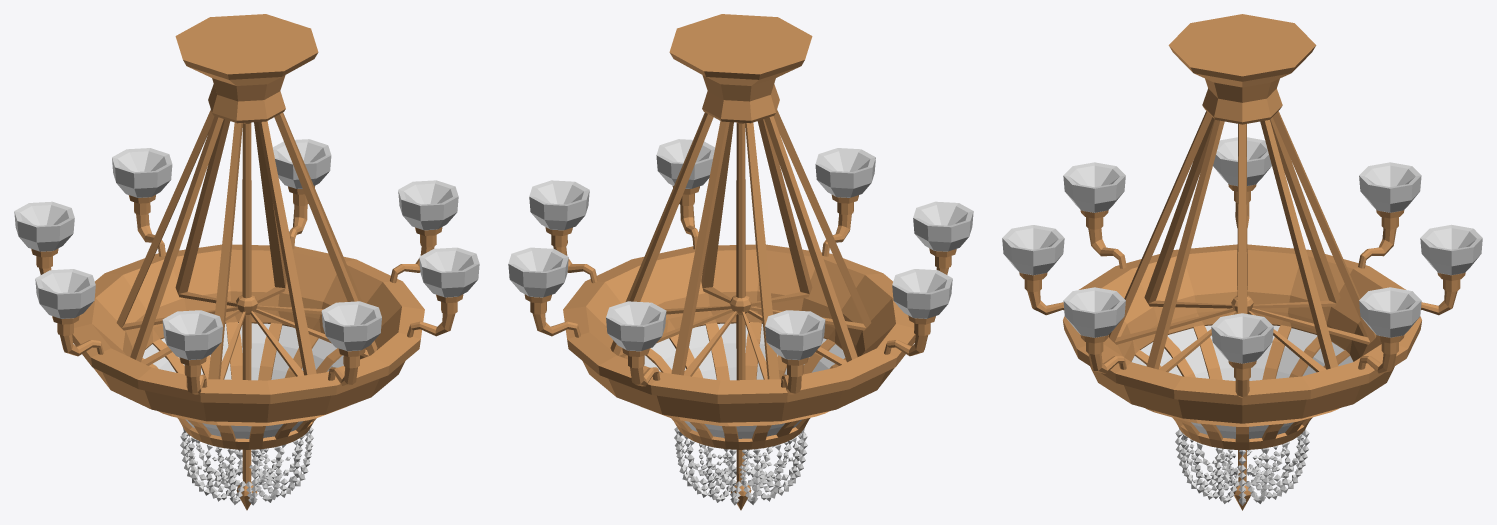
File: lampa3.gltf
3 renders of one model, left to right at view 1: azimuth 30°, elevation 25°; view 2: azimuth 150°, elevation 25°; view 3: azimuth 270°, elevation 25°, orthographic.
Parts seen in each view (by area): view 1: lamp3; view 2: lamp3; view 3: lamp3.
Part boxes in pixels (<box>): lamp3: <box>14,14,479,510</box>; lamp3: <box>508,14,973,510</box>; lamp3: <box>1002,14,1482,510</box>.
Bounding box in the file's own units: 4.46 × 4.76 × 4.46.
